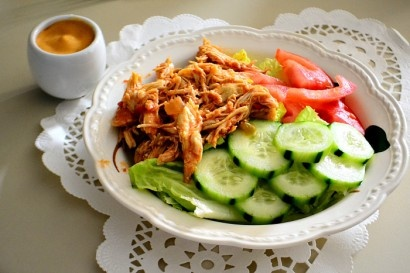background: (71, 15, 240, 96), (22, 8, 60, 23)
